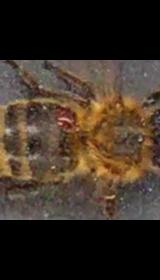varroa_mite: (56, 105, 84, 138)
